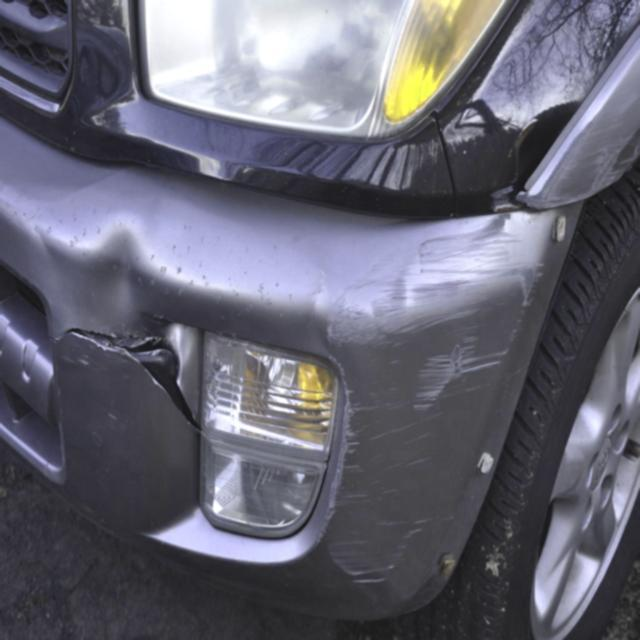minor: (327, 382, 434, 587), (409, 302, 528, 408)
moderate: (405, 219, 544, 320)
severe: (20, 210, 198, 533)
